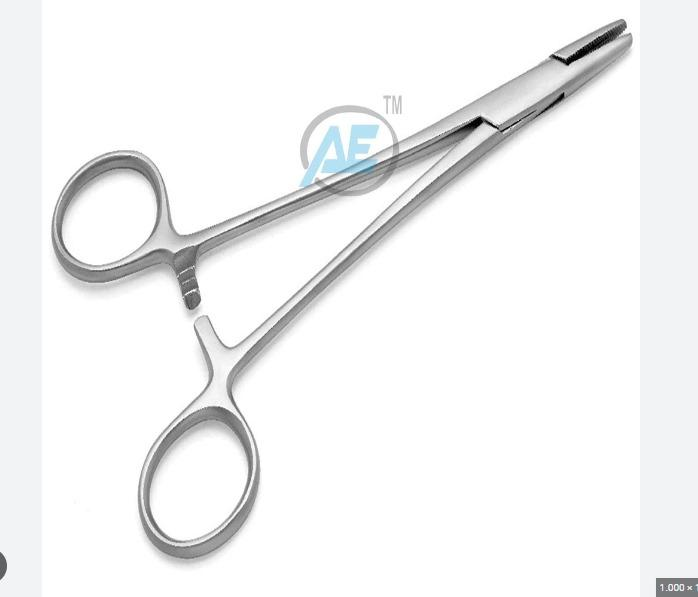Needle Holder: (52, 18, 633, 563)
